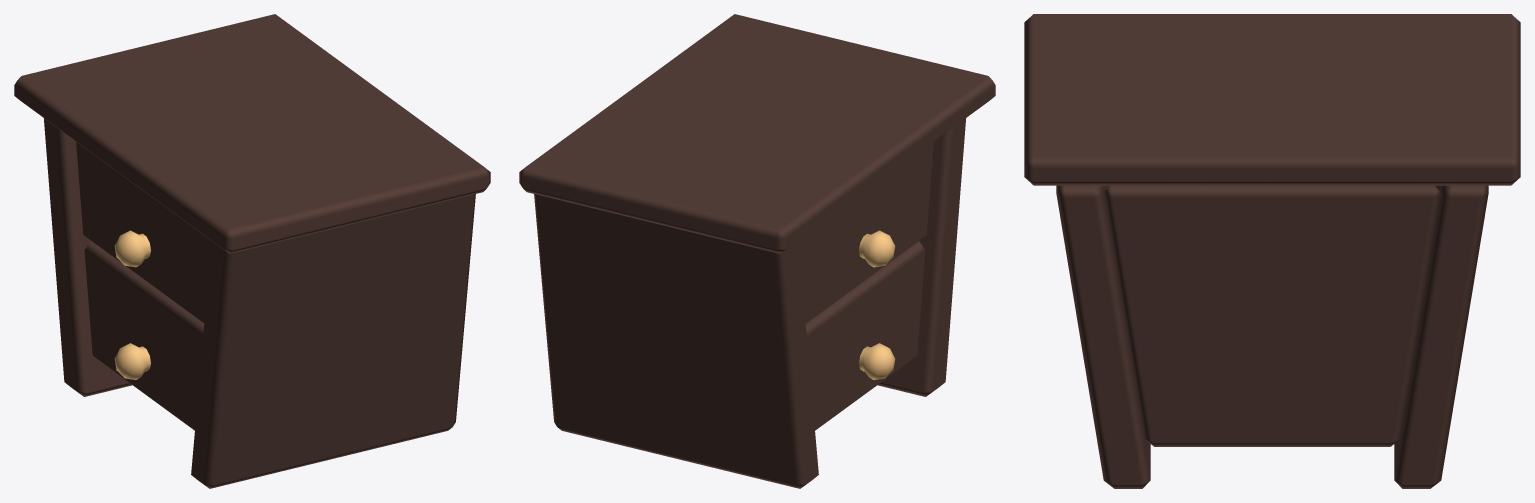
The model's file is BedsideCabinet.fbx.
3 views of the same model, side by side, from view 1: azimuth 30°, elevation 25°; view 2: azimuth 150°, elevation 25°; view 3: azimuth 270°, elevation 25° (orthographic). The views are drawn at different scales.
Visible parts, largest first — view 1: Cube.007, Cube.009, Cube.012, Cube.008, Icosphere.002, Icosphere; view 2: Cube.007, Cube.009, Cube.012, Cube.008, Icosphere.002, Icosphere; view 3: Cube.009, Cube.010, Cube.007.
Boxes of the visible parts, x1,y1,x2,y2 form: Cube.007: (44,118,475,488); Cube.009: (14,14,490,253); Cube.012: (84,241,204,430); Cube.008: (76,142,211,323); Icosphere.002: (114,343,150,379); Icosphere: (114,230,150,267); Cube.007: (534,118,965,488); Cube.009: (519,14,995,253); Cube.012: (805,241,925,430); Cube.008: (798,142,933,323); Icosphere.002: (859,343,895,379); Icosphere: (859,230,895,267); Cube.009: (1024,14,1520,185); Cube.010: (1103,185,1441,446); Cube.007: (1056,185,1488,488).
Size of the model in its own units: 87.33 by 89.84 by 121.
